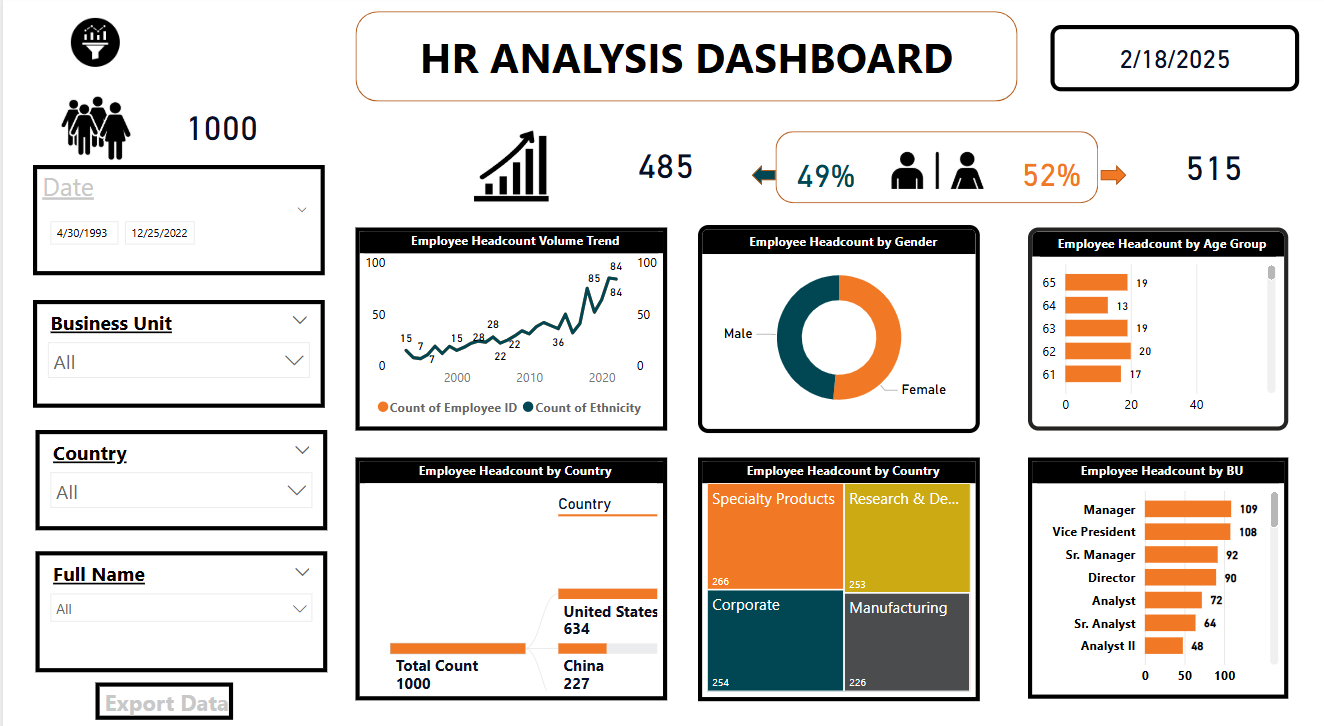

This screenshot's page, from the dashboard's own definition file:
{"tool":"powerbi","page":{"name":"HR Analysis","canvas":[1280,720],"ordinal":0},"visuals":[{"type":"card","fields":{"Values":["Employee Data.Total_Count"]},"box":[113.9,92.5,195.8,65.9],"z":0},{"type":"image","box":[32,90.8,113.9,76.5],"z":1000},{"type":"lineChart","title":"Employee Headcount Volume Trend","fields":{"Category":["Employee Data.Hire Date.Variation.Date Hierarchy.Year"],"Y":["CountNonNull(Employee Data.Employee ID)"],"Y2":["CountNonNull(Employee Data.Ethnicity)"]},"box":[339.9,224.3,300.8,195.8],"z":2000},{"type":"donutChart","title":"Employee Headcount by Gender","fields":{"Category":["Employee Data.Gender"],"Y":["CountNonNull(Employee Data.Employee ID)"]},"box":[671,222.5,272.3,201.1],"z":3000},{"type":"clusteredBarChart","title":"Employee Headcount by Age Group","fields":{"Category":["Employee Data.Age"],"Y":["CountNonNull(Employee Data.Employee ID)"]},"box":[989.6,224.3,250.9,195.8],"z":4000},{"type":"decompositionTreeVisual","title":"Employee Headcount by Country","fields":{"Analyze":["CountNonNull(Employee Data.Country)"],"ExplainBy":["Employee Data.Country"]},"box":[340.2,446.4,300.4,234],"z":5000},{"type":"treemap","title":"Employee Headcount by Country","fields":{"Group":["Employee Data.Business Unit"],"Values":["CountNonNull(Employee Data.Employee ID)"]},"box":[671,446.7,272.3,234.9],"z":6000},{"type":"clusteredBarChart","title":"Employee Headcount by BU","fields":{"Category":["Employee Data.Job Title"],"Y":["CountNonNull(Employee Data.Employee ID)"]},"box":[989.6,446.7,250.9,233.2],"z":7000},{"type":"shape","box":[745.7,131.7,311.5,69.4],"z":8000},{"type":"image","box":[836.5,142.4,131.7,51.6],"z":9000},{"type":"card","fields":{"Values":["Employee Data.Total_Male_Count"]},"box":[560.6,129.9,158.4,65.9],"z":10000},{"type":"card","fields":{"Values":["Employee Data.Total_Female_Count"]},"box":[1096.3,131.7,144.2,65.9],"z":11000},{"type":"card","fields":{"Values":["Employee Data.Male%"]},"box":[751.1,151.3,85.4,44.5],"z":12000},{"type":"card","fields":{"Values":["Employee Data.Female%"]},"box":[968.2,149.5,85.4,44.5],"z":13000},{"type":"shape","box":[339.9,16,638.9,87.2],"z":14000},{"type":"image","box":[339.9,124.6,300.8,81.9],"z":15000},{"type":"shape","box":[1059,163.7,24.9,19.6],"z":16000},{"type":"shape","box":[722.6,163.7,23.1,19.6],"z":17000},{"type":"slicer","fields":{"Values":["Employee Data.Business Unit"]},"box":[28.9,294.3,281.3,103.9],"z":18000},{"type":"slicer","fields":{"Values":["Employee Data.Country"]},"box":[31.7,419.8,281.3,96.7],"z":19000},{"type":"slicer","fields":{"Values":["Employee Data.Full Name"]},"box":[31.7,536.7,281.3,116.9],"z":20000},{"type":"slicer","title":"Date","fields":{"Values":["Employee Data.Hire Date"]},"box":[28.9,164.5,281.3,106.8],"z":21000},{"type":"card","fields":{"Values":["Min(Query1.Date)"]},"box":[1010.9,28.5,240.3,64.1],"z":22000},{"type":"image","box":[51.6,16,74.8,60.5],"z":23000},{"type":"slicer","title":"Export Data","fields":{"Values":["Employee Data.Full Name","Employee Data.Gender"]},"box":[89.5,663.7,132.7,36.1],"z":24000}]}

Visuals, with their boxes in screenshot pixels (x1, y1, x2, y2), scaled from the page's 1280x720 canvas onto the 1324x726 screenshot:
card - Employee Data.Total_Count: left=118, top=93, right=320, bottom=160
image: left=33, top=92, right=151, bottom=169
"Employee Headcount Volume Trend" lineChart: left=352, top=226, right=663, bottom=424
"Employee Headcount by Gender" donutChart: left=694, top=224, right=976, bottom=427
"Employee Headcount by Age Group" clusteredBarChart: left=1024, top=226, right=1283, bottom=424
"Employee Headcount by Country" decompositionTreeVisual: left=352, top=450, right=663, bottom=686
"Employee Headcount by Country" treemap: left=694, top=450, right=976, bottom=687
"Employee Headcount by BU" clusteredBarChart: left=1024, top=450, right=1283, bottom=686
shape: left=771, top=133, right=1094, bottom=203
image: left=865, top=144, right=1001, bottom=196
card - Employee Data.Total_Male_Count: left=580, top=131, right=744, bottom=197
card - Employee Data.Total_Female_Count: left=1134, top=133, right=1283, bottom=199
card - Employee Data.Male%: left=777, top=153, right=865, bottom=197
card - Employee Data.Female%: left=1001, top=151, right=1090, bottom=196
shape: left=352, top=16, right=1012, bottom=104
image: left=352, top=126, right=663, bottom=208
shape: left=1095, top=165, right=1121, bottom=185
shape: left=747, top=165, right=771, bottom=185
slicer - Employee Data.Business Unit: left=30, top=297, right=321, bottom=402
slicer - Employee Data.Country: left=33, top=423, right=324, bottom=521
slicer - Employee Data.Full Name: left=33, top=541, right=324, bottom=659
"Date" slicer: left=30, top=166, right=321, bottom=274
card - Min(Query1.Date): left=1046, top=29, right=1294, bottom=93
image: left=53, top=16, right=131, bottom=77
"Export Data" slicer: left=93, top=669, right=230, bottom=706
